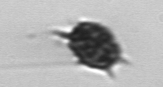plankton: (45, 16, 140, 80)
